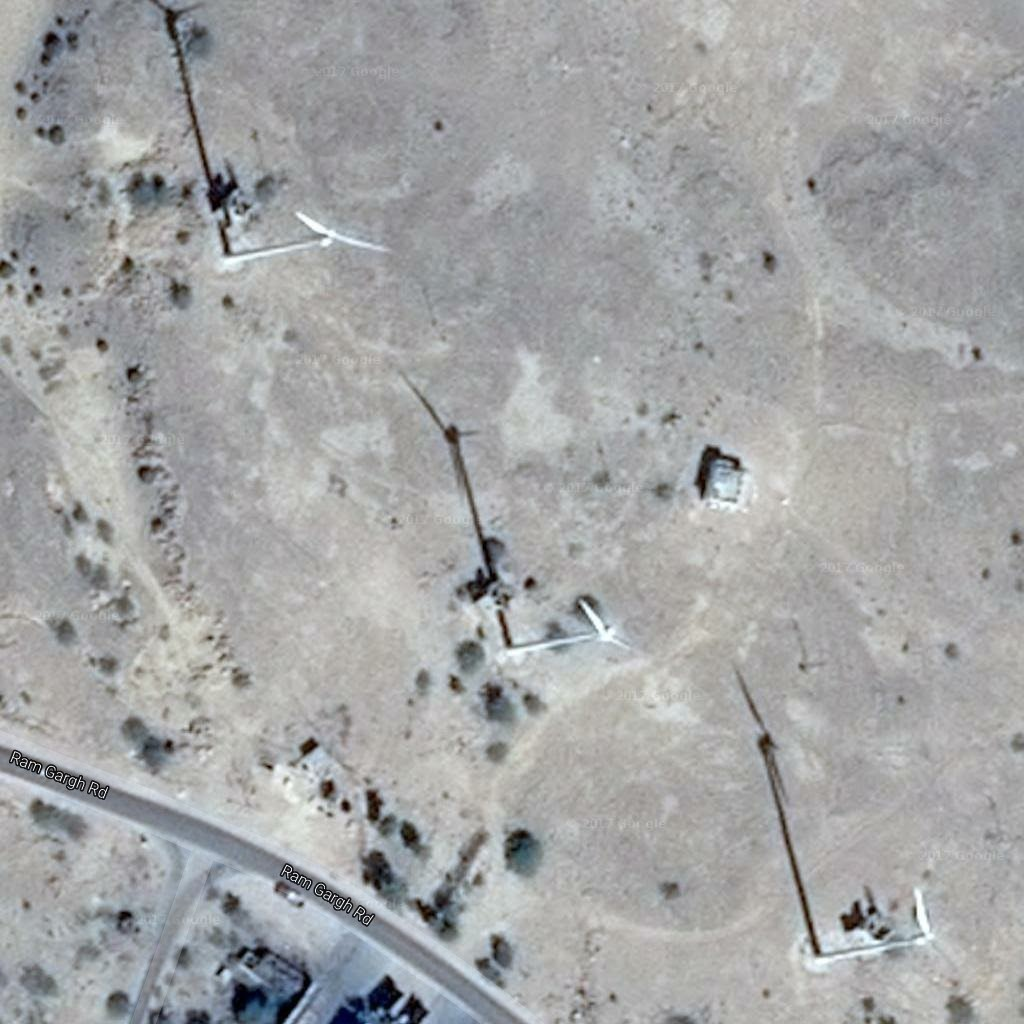Windmill: (394, 369, 542, 653)
